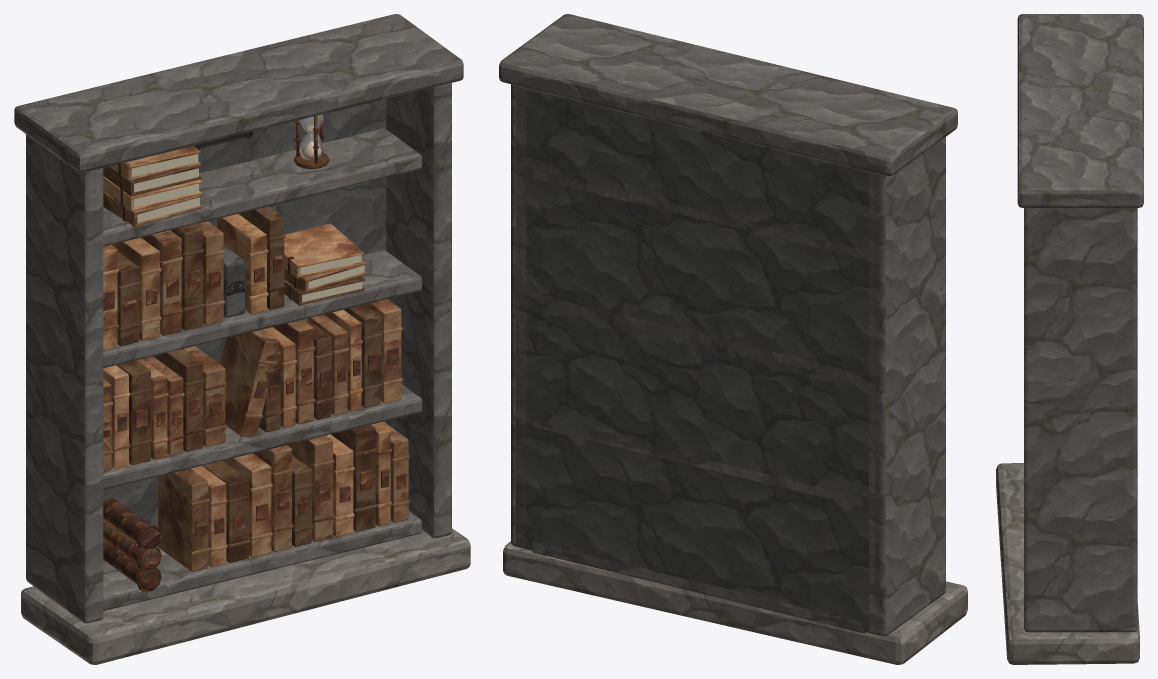
The model's file is vo_log_shelf.glb.
The picture shows the model from 3 angles, left to right: view 1: azimuth 30°, elevation 25°; view 2: azimuth 150°, elevation 25°; view 3: azimuth 270°, elevation 25°; orthographic projection. The views are drawn at different scales.
Parts seen in each view (by area): view 1: model; view 2: model; view 3: model.
Part boxes in pixels (x1,y1,x2,y2): model: [14, 14, 470, 664]; model: [499, 14, 967, 664]; model: [996, 14, 1143, 664].
Bounding box in the file's own units: 1.34 × 1.66 × 0.468.
Materials: 14 (10 with a texture image).
